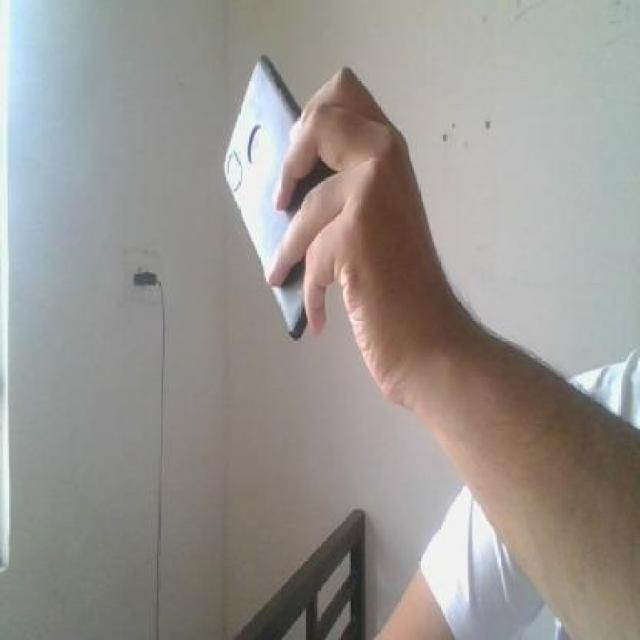Phone: (217, 49, 328, 340)
